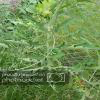Tomato mold leaf: (54, 16, 79, 32), (58, 42, 98, 51), (3, 39, 43, 47), (48, 52, 66, 60), (27, 55, 45, 61)
